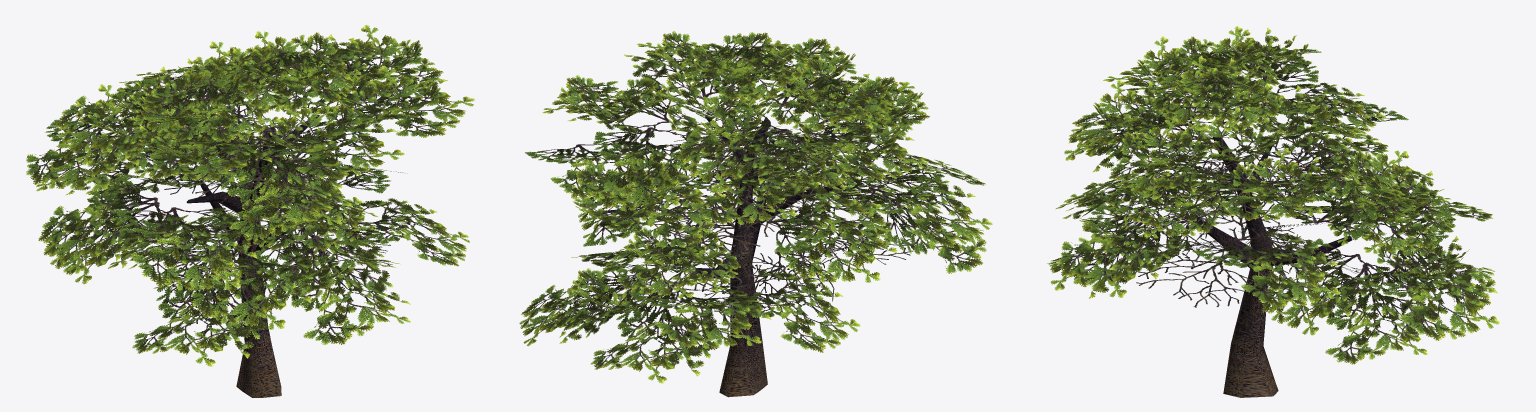
File: flora_tree_oak_hungarian_v3.glb
3 views of the same model, side by side, from view 1: azimuth 30°, elevation 25°; view 2: azimuth 150°, elevation 25°; view 3: azimuth 270°, elevation 25° (orthographic). The views are drawn at different scales.
Visible parts, largest first — view 1: flora_tree_oak_hungarian_v3_part0, flora_tree_oak_hungarian_v3_part1; view 2: flora_tree_oak_hungarian_v3_part0, flora_tree_oak_hungarian_v3_part1; view 3: flora_tree_oak_hungarian_v3_part0, flora_tree_oak_hungarian_v3_part1.
Boxes of the visible parts, x1,y1,x2,y2 form: flora_tree_oak_hungarian_v3_part0: (26, 24, 474, 397); flora_tree_oak_hungarian_v3_part1: (137, 90, 392, 323); flora_tree_oak_hungarian_v3_part0: (519, 31, 992, 397); flora_tree_oak_hungarian_v3_part1: (642, 100, 916, 309); flora_tree_oak_hungarian_v3_part0: (1047, 26, 1499, 397); flora_tree_oak_hungarian_v3_part1: (1136, 119, 1369, 307).
Bounding box in the file's own units: 24.47 × 19.94 × 26.75.
Materials: 2 (2 with a texture image).
